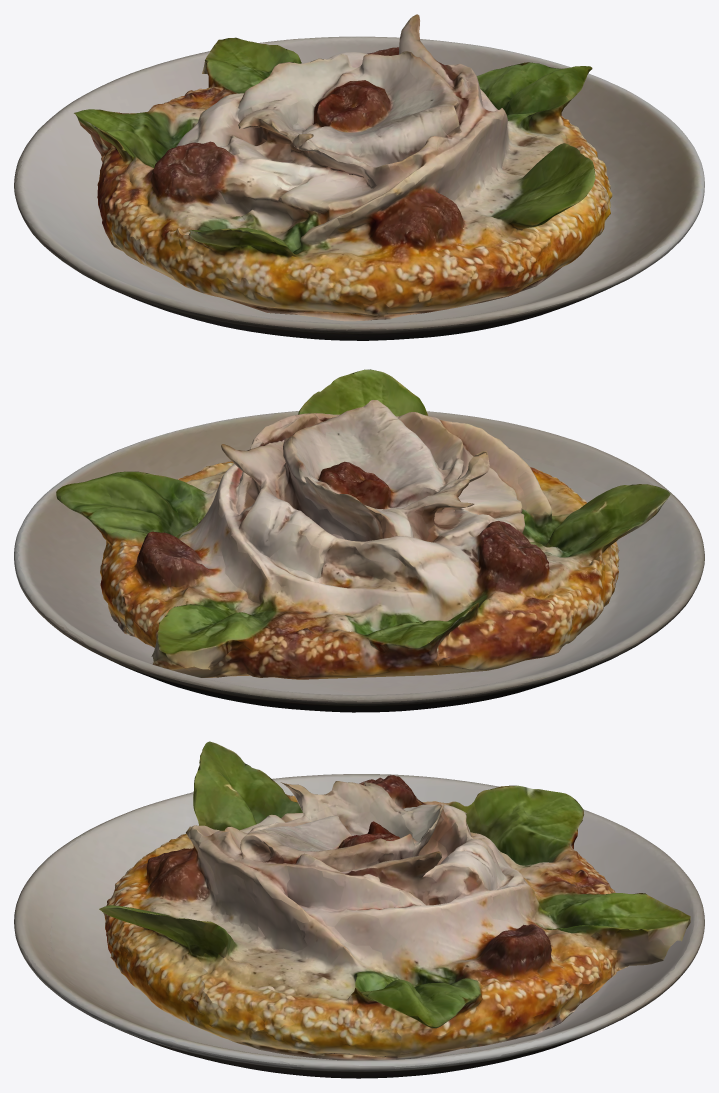
File: flatbread.rostbeef.or.tturkey.001.glb
The picture shows the model from 3 angles, top to bottom: view 1: azimuth 30°, elevation 25°; view 2: azimuth 150°, elevation 25°; view 3: azimuth 270°, elevation 25°; orthographic projection.
Visible parts, largest first — view 1: /Root/Scenes/Scene/Object_37/Object_38/Submesh_0, /Root/Scenes/Scene/Object_37/Object_39/Object_40/Submesh_0; view 2: /Root/Scenes/Scene/Object_37/Object_38/Submesh_0, /Root/Scenes/Scene/Object_37/Object_39/Object_40/Submesh_0; view 3: /Root/Scenes/Scene/Object_37/Object_38/Submesh_0, /Root/Scenes/Scene/Object_37/Object_39/Object_40/Submesh_0.
Boxes of the visible parts, <box> form: /Root/Scenes/Scene/Object_37/Object_38/Submesh_0: <box>74,14,612,321</box>; /Root/Scenes/Scene/Object_37/Object_39/Object_40/Submesh_0: <box>14,36,704,340</box>; /Root/Scenes/Scene/Object_37/Object_38/Submesh_0: <box>56,369,670,679</box>; /Root/Scenes/Scene/Object_37/Object_39/Object_40/Submesh_0: <box>14,411,704,712</box>; /Root/Scenes/Scene/Object_37/Object_38/Submesh_0: <box>99,741,690,1060</box>; /Root/Scenes/Scene/Object_37/Object_39/Object_40/Submesh_0: <box>14,774,704,1078</box>.
Bounding box in the file's own units: 0.2601 × 0.071 × 0.2601.
2 materials, 2 textured.
